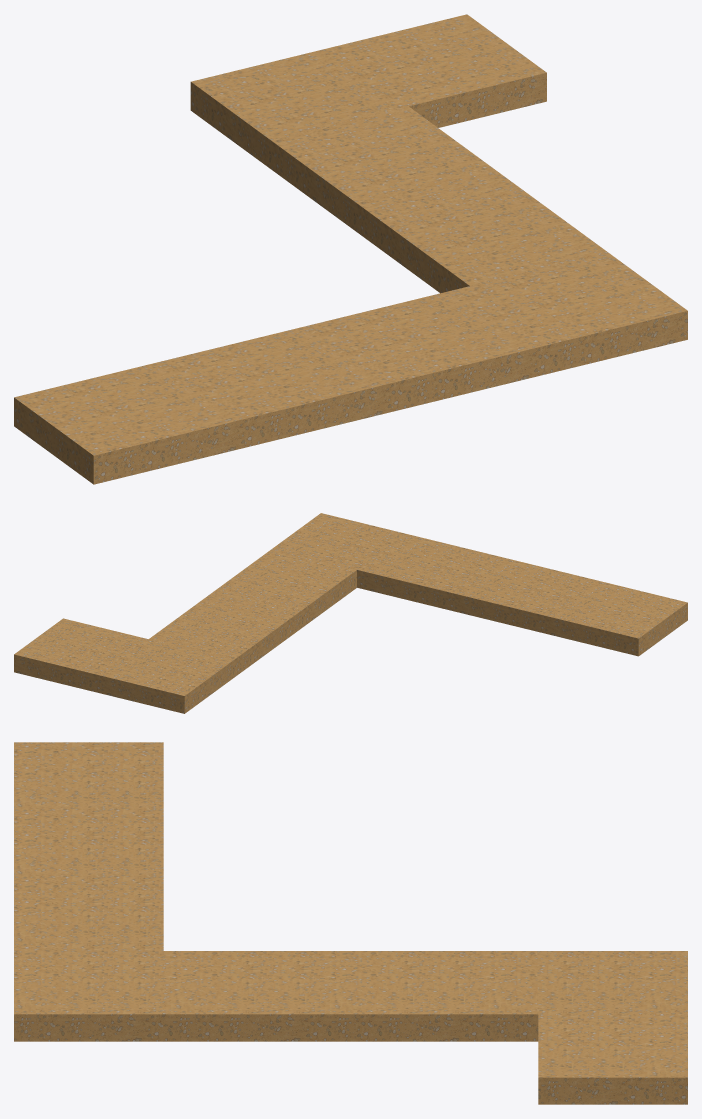
File: Path.glb
3 views of the same model, one above another, from view 1: azimuth 30°, elevation 25°; view 2: azimuth 150°, elevation 25°; view 3: azimuth 270°, elevation 25° (orthographic). The views are drawn at different scales.
Visible parts, largest first — view 1: Path; view 2: Path; view 3: Path.
Boxes of the visible parts, box(x1,y1,x2,y2) form: Path: box(14, 14, 687, 484); Path: box(14, 513, 687, 713); Path: box(14, 742, 687, 1104).
Size of what is drawn, in the model's own units: 10.6 by 0.4 by 9.
1 material, 1 textured.
